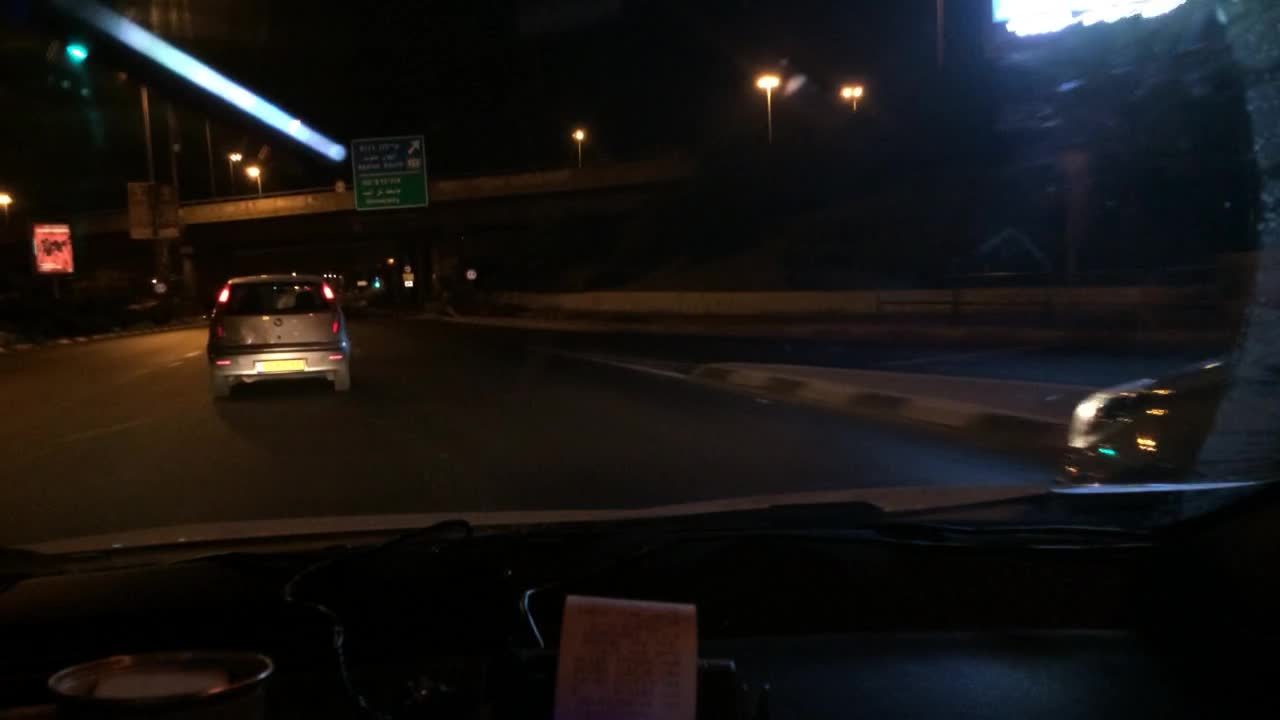car: (1065, 345, 1279, 480), (205, 271, 355, 404), (333, 281, 374, 315)
traffic sign: (352, 134, 430, 208), (128, 181, 182, 240), (30, 222, 71, 271)
